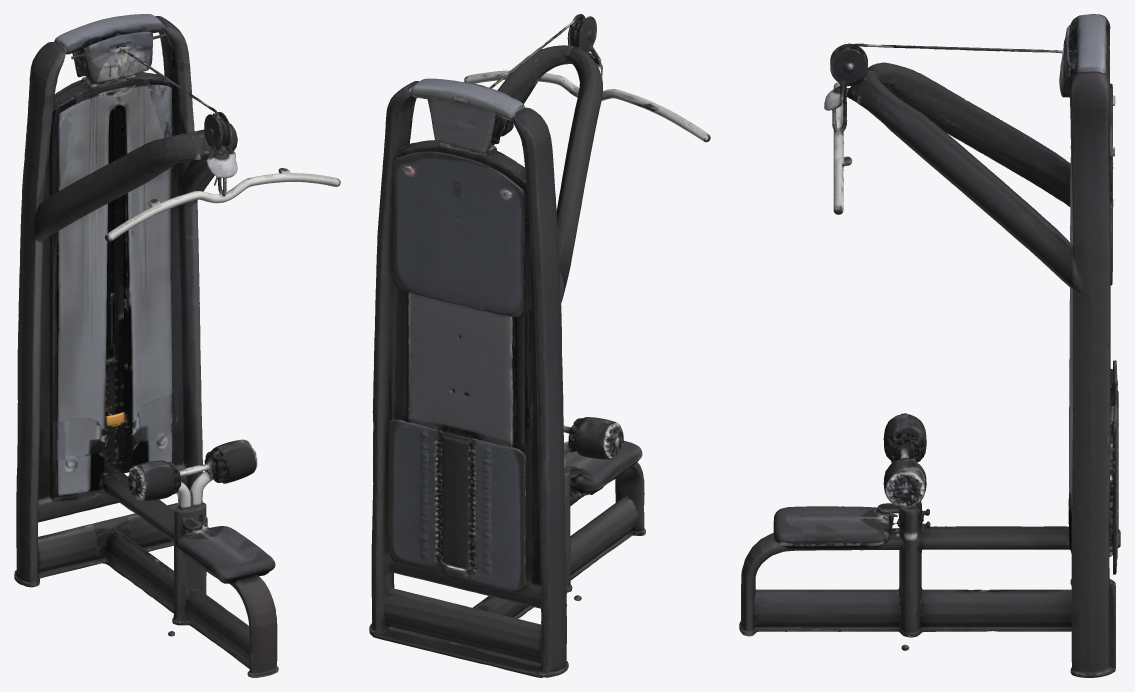
Rendered from Maquina_de_Piernas_Hack.glb.
The picture shows the model from 3 angles, left to right: view 1: azimuth 30°, elevation 25°; view 2: azimuth 150°, elevation 25°; view 3: azimuth 270°, elevation 25°; orthographic projection. The views are drawn at different scales.
Bounding box in the file's own units: 0.865 × 1.93 × 1.1.
1 material, 1 textured.
